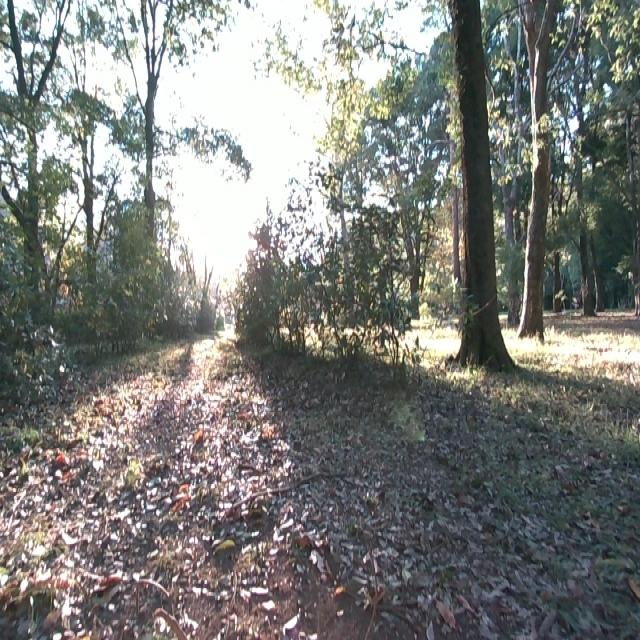bush: (235, 163, 429, 382), (69, 191, 177, 365), (0, 291, 40, 469)
tree: (446, 0, 514, 386), (518, 0, 548, 343), (18, 2, 46, 298), (74, 58, 103, 292), (135, 0, 157, 237)
